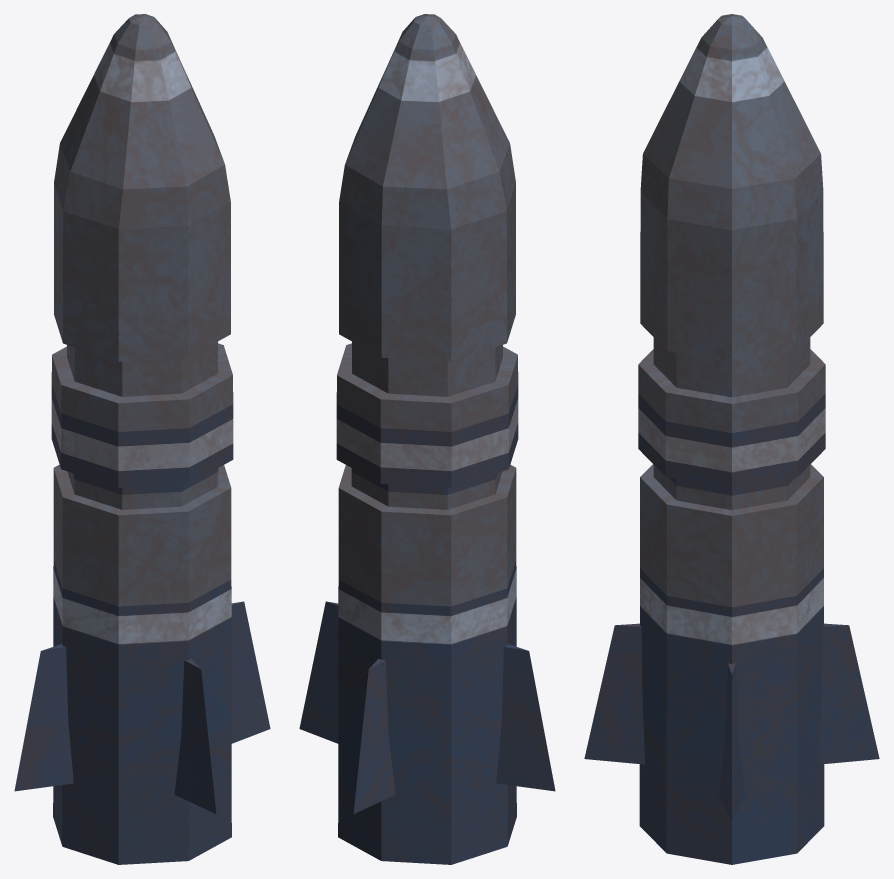
File: Missile.fbx
The picture shows the model from 3 angles, left to right: view 1: azimuth 30°, elevation 25°; view 2: azimuth 150°, elevation 25°; view 3: azimuth 270°, elevation 25°; orthographic projection.
Parts seen in each view (by area): view 1: Missile; view 2: Missile; view 3: Missile.
Boxes of the visible parts, left/top/right/bottom form: Missile: left=14, top=14, right=270, bottom=864; Missile: left=299, top=14, right=555, bottom=864; Missile: left=584, top=14, right=879, bottom=864.
Bounding box in the file's own units: 40 × 121 × 40.
